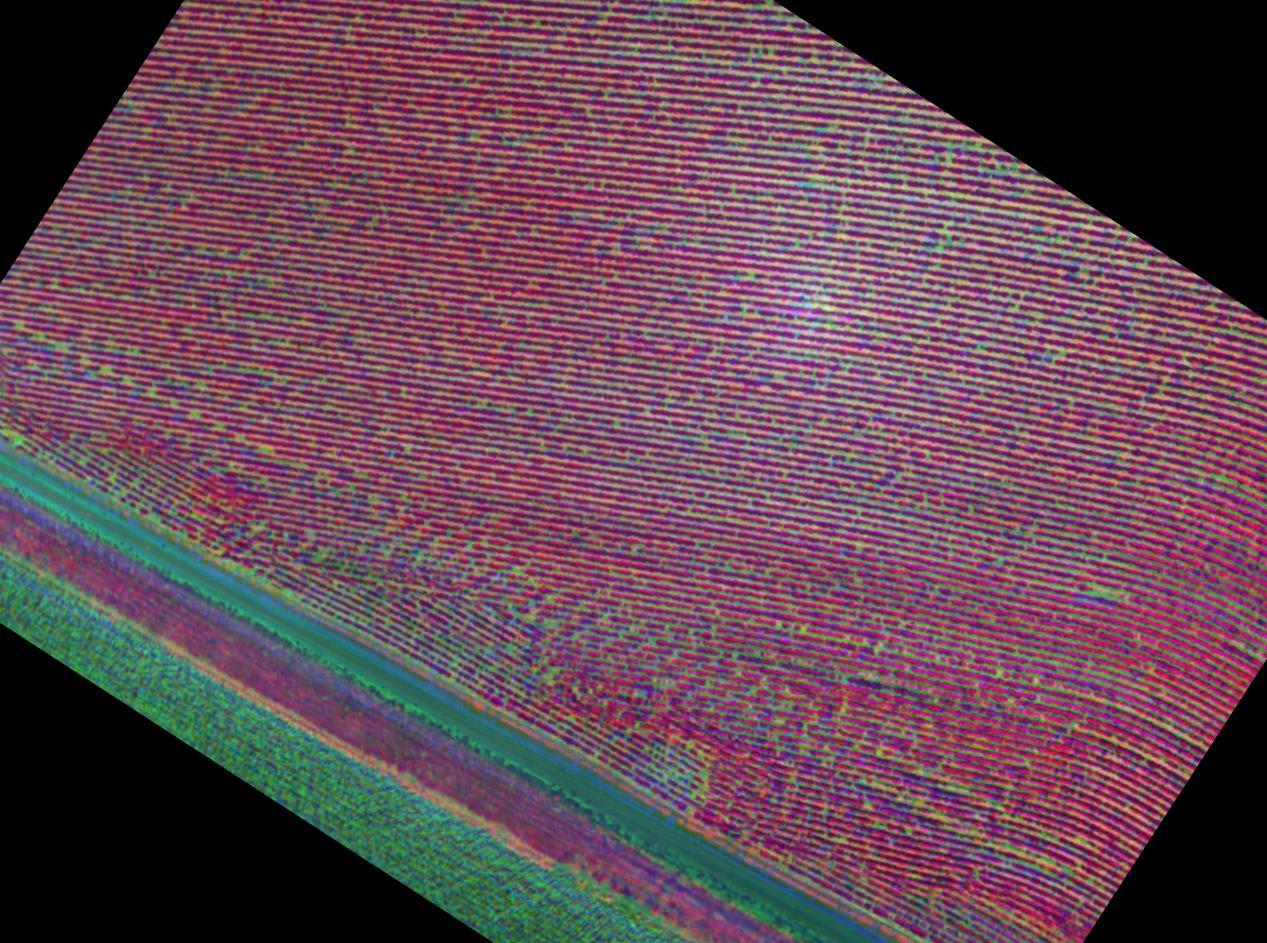dc: (1093, 584, 1118, 600), (952, 784, 964, 794), (259, 169, 270, 179), (810, 295, 820, 305), (810, 176, 820, 185), (699, 770, 708, 780), (262, 446, 271, 453), (403, 445, 410, 452), (236, 434, 242, 440)
